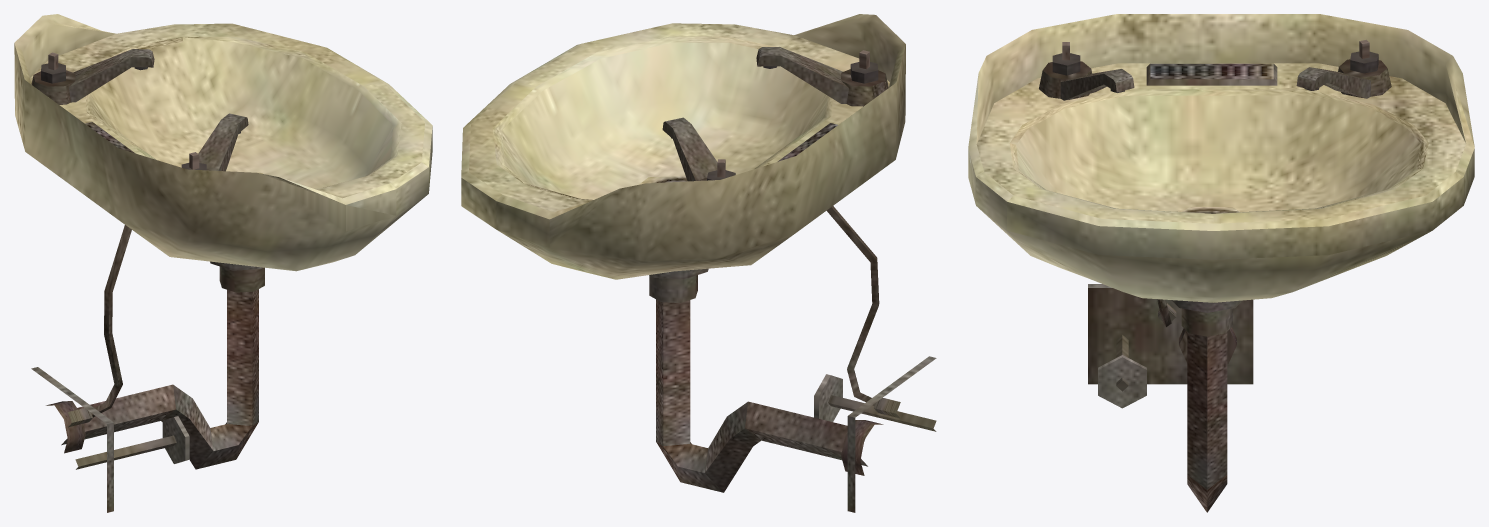
The model's file is prison_sink001a.glb.
3 renders of one model, left to right at view 1: azimuth 30°, elevation 25°; view 2: azimuth 150°, elevation 25°; view 3: azimuth 270°, elevation 25°, orthographic. The views are drawn at different scales.
Parts seen in each view (by area): view 1: 0_prison_objects001; view 2: 0_prison_objects001; view 3: 0_prison_objects001.
Boxes of the visible parts, <box> form: 0_prison_objects001: <box>14,14,432,512</box>; 0_prison_objects001: <box>461,14,936,512</box>; 0_prison_objects001: <box>968,14,1474,512</box>.
Size of the model in its own units: 0.6289 by 0.6457 by 0.7135.
Materials: 1 (1 with a texture image).
